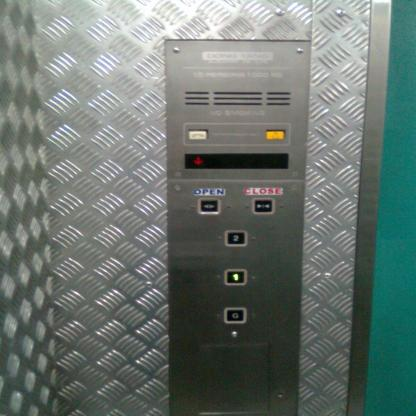1: (224, 269, 247, 285)
2: (224, 230, 247, 246)
G: (223, 307, 246, 323)
alarm: (264, 130, 285, 140)
call: (188, 130, 208, 140)
close: (252, 197, 274, 214)
led: (180, 150, 291, 170)
open: (198, 197, 220, 214)
